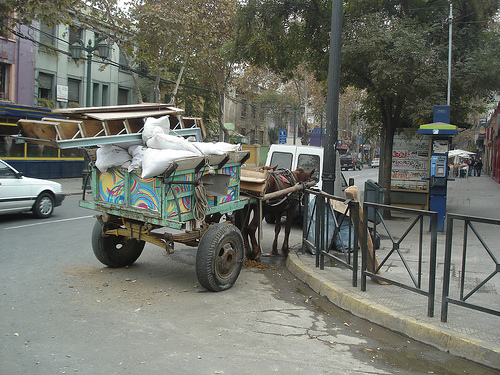horse: (236, 164, 318, 265)
